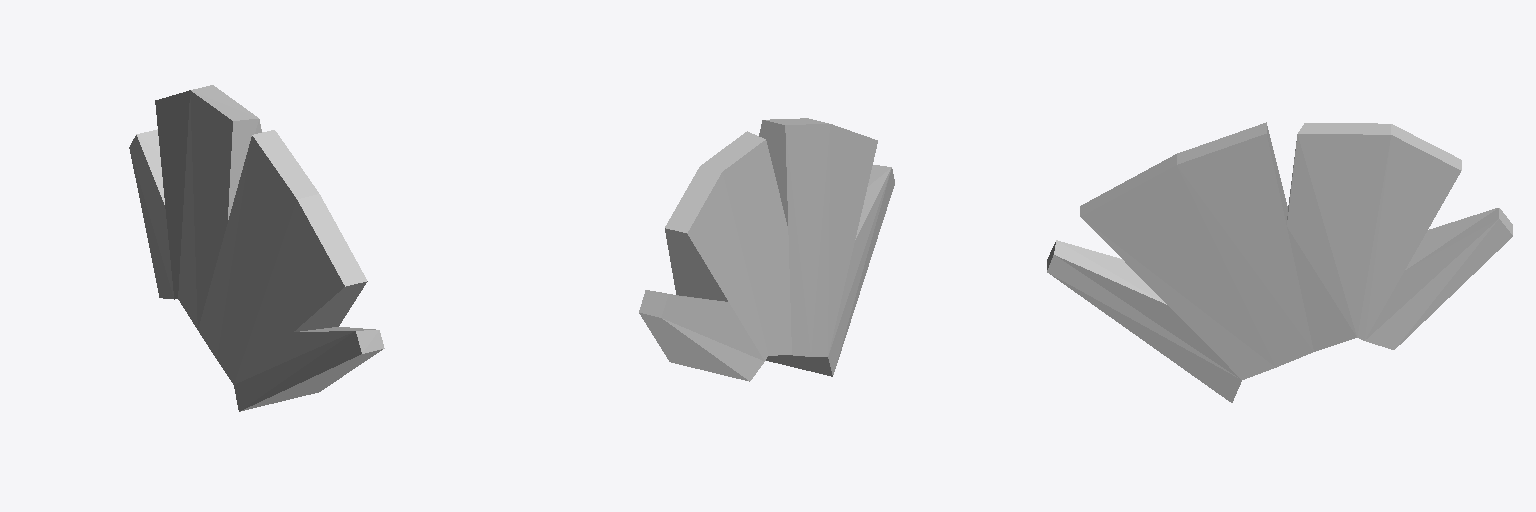
Rendered from mohawk.obj.
3 views of the same model, side by side, from view 1: azimuth 30°, elevation 25°; view 2: azimuth 150°, elevation 25°; view 3: azimuth 270°, elevation 25° (orthographic).
Visible parts, largest first — view 1: Cube.003_Cube.004; view 2: Cube.003_Cube.004; view 3: Cube.003_Cube.004.
Part boxes in pixels (x1,y1,x2,y2): Cube.003_Cube.004: (129,85,384,411); Cube.003_Cube.004: (639,118,894,381); Cube.003_Cube.004: (1047,122,1512,402).
Bounding box in the file's own units: 0.222 × 0.6628 × 1.09.